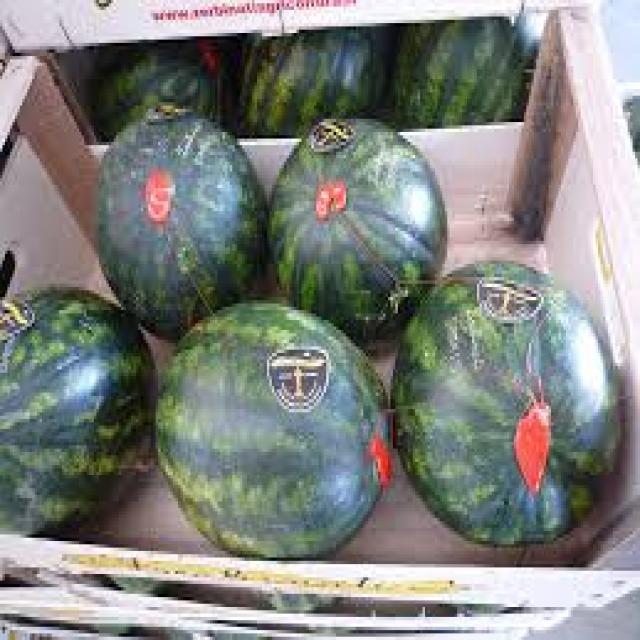organic waste: (388, 257, 625, 548), (146, 297, 393, 554), (264, 112, 448, 346), (94, 106, 267, 333), (0, 284, 153, 531), (232, 33, 393, 129), (89, 43, 250, 129), (385, 20, 524, 119)
